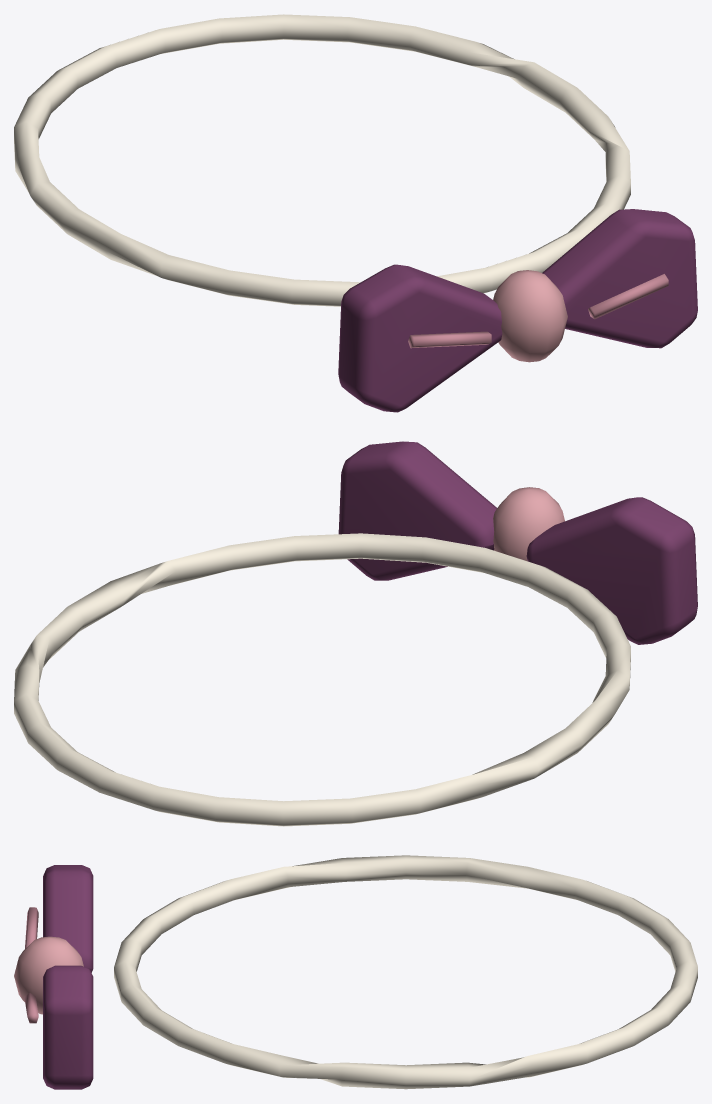
The model's file is bow_tie.glb.
3 views of the same model, one above another, from view 1: azimuth 30°, elevation 25°; view 2: azimuth 150°, elevation 25°; view 3: azimuth 270°, elevation 25° (orthographic). The views are drawn at different scales.
Visible parts, largest first — view 1: Cream bow collar, Plum bow left wing, Plum bow right wing, Rose bow knot, Right bow fold, Left bow fold; view 2: Cream bow collar, Plum bow left wing, Plum bow right wing, Rose bow knot; view 3: Cream bow collar, Plum bow right wing, Plum bow left wing, Rose bow knot, Left bow fold.
Part boxes in pixels (x1,y1,x2,y2): Cream bow collar: [14, 14, 630, 306]; Plum bow left wing: [338, 264, 502, 412]; Plum bow right wing: [542, 209, 697, 348]; Rose bow knot: [493, 270, 567, 362]; Right bow fold: [588, 274, 668, 319]; Left bow fold: [408, 331, 491, 348]; Cream bow collar: [14, 533, 630, 826]; Plum bow left wing: [526, 497, 697, 644]; Plum bow right wing: [338, 441, 496, 580]; Rose bow knot: [493, 487, 564, 561]; Cream bow collar: [114, 855, 697, 1089]; Plum bow right wing: [43, 965, 93, 1089]; Plum bow left wing: [43, 865, 93, 972]; Rose bow knot: [14, 936, 83, 1014]; Left bow fold: [25, 907, 38, 948].
Bounding box in the file's own units: 0.518 × 0.1243 × 0.6804.
